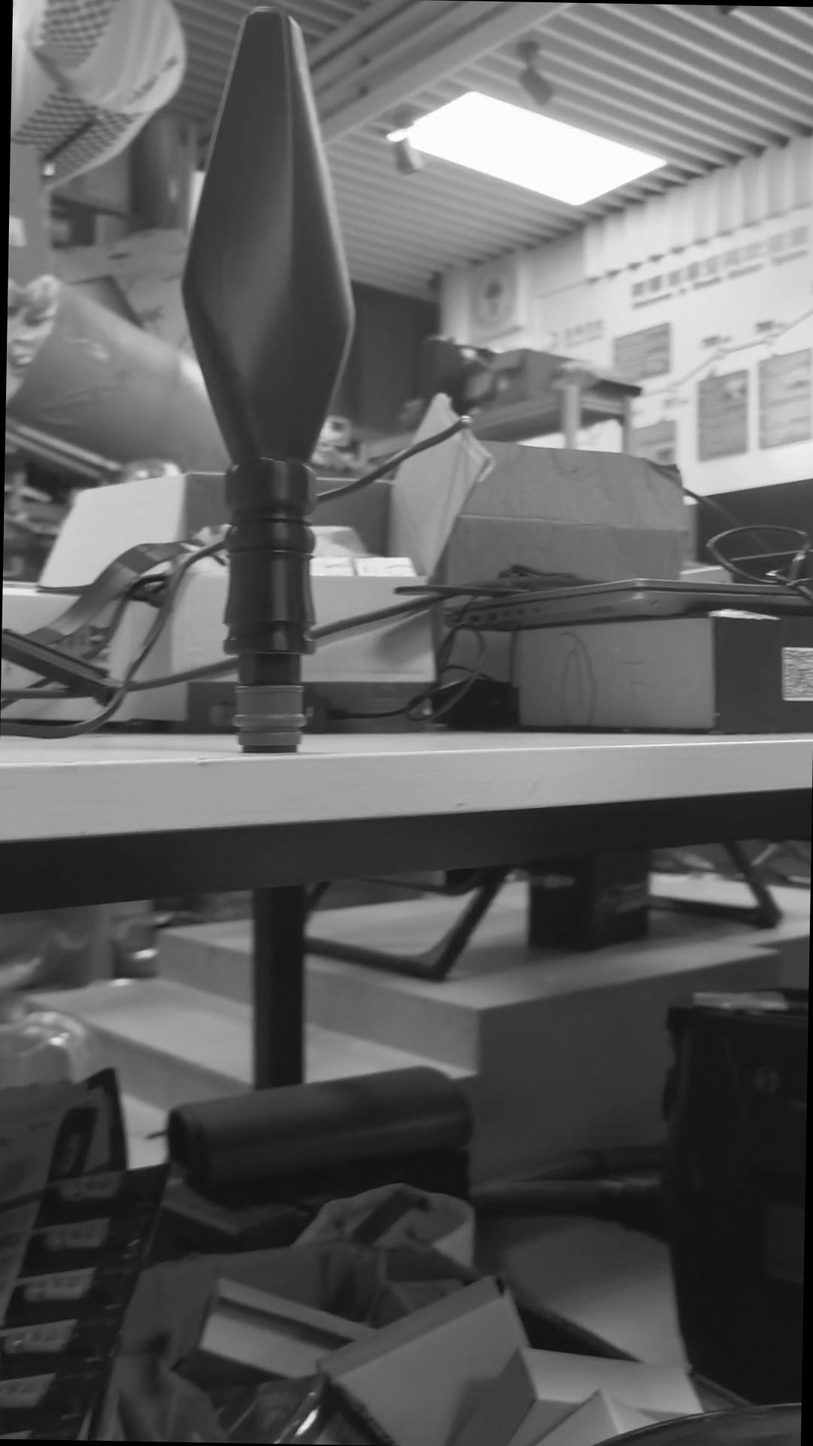base: (230, 678, 307, 754)
